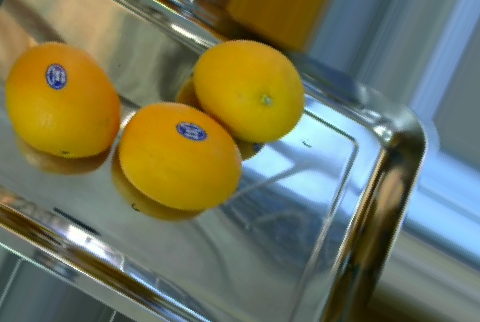Orange: (118, 101, 243, 210), (4, 42, 120, 157), (193, 39, 306, 143)
